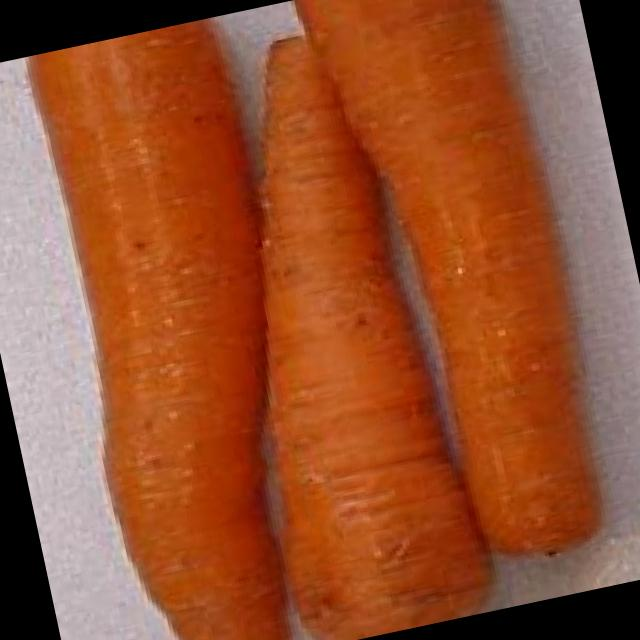carrot: (298, 0, 603, 559), (25, 17, 295, 640), (257, 31, 495, 640)
